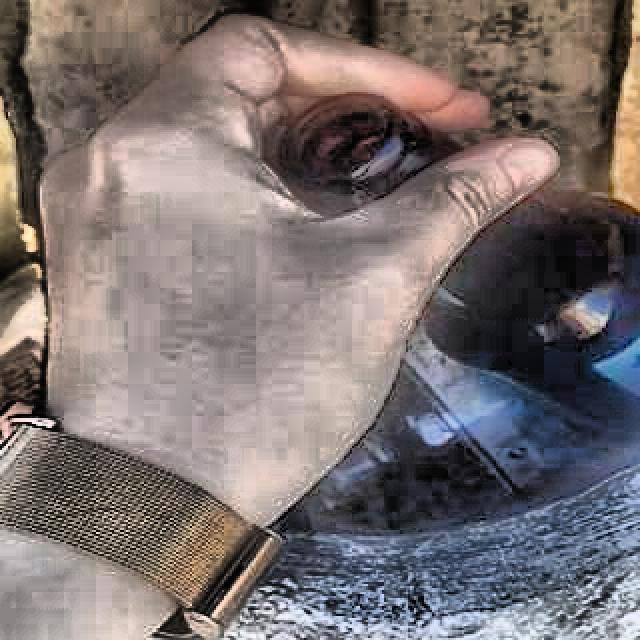glass: (421, 194, 640, 396), (275, 94, 461, 215)
